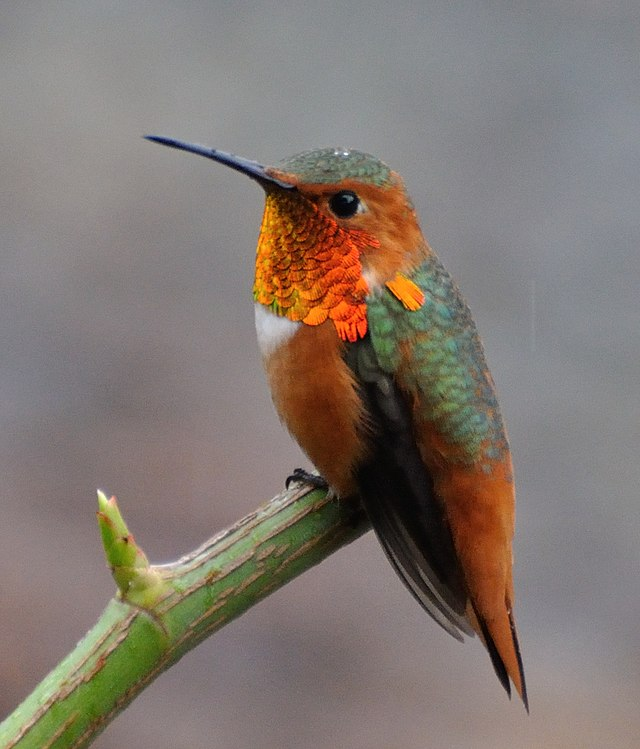selasphorus sasin: (135, 125, 533, 708)
